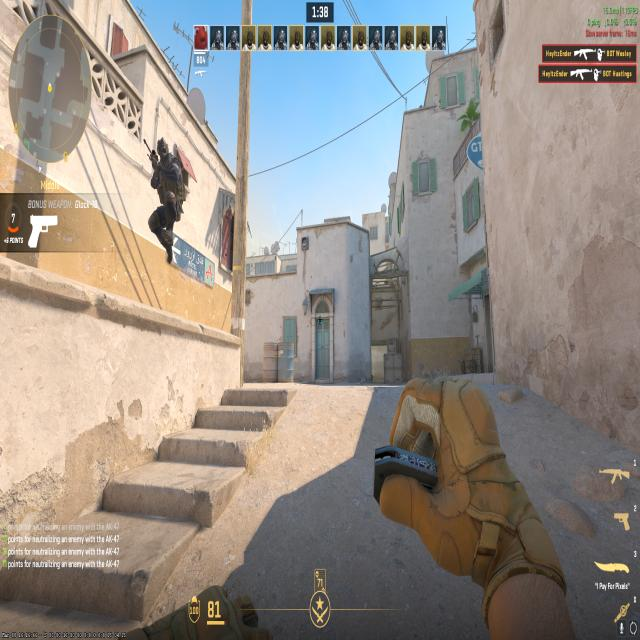ct: (131, 124, 197, 289)
